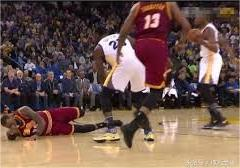bending: (93, 26, 155, 143)
down: (55, 106, 185, 142)
up: (119, 1, 197, 147), (188, 6, 233, 132)
